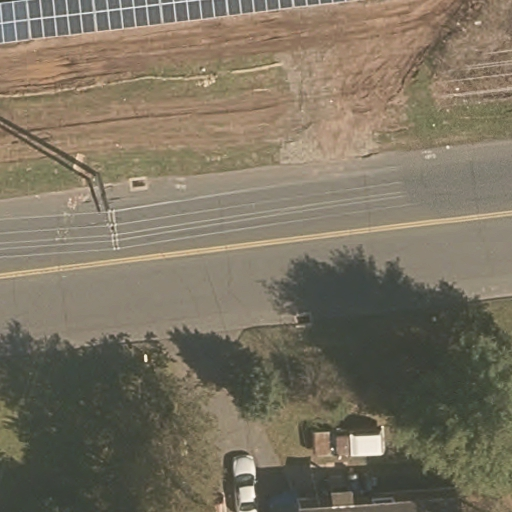DT: (84, 170, 131, 262)
